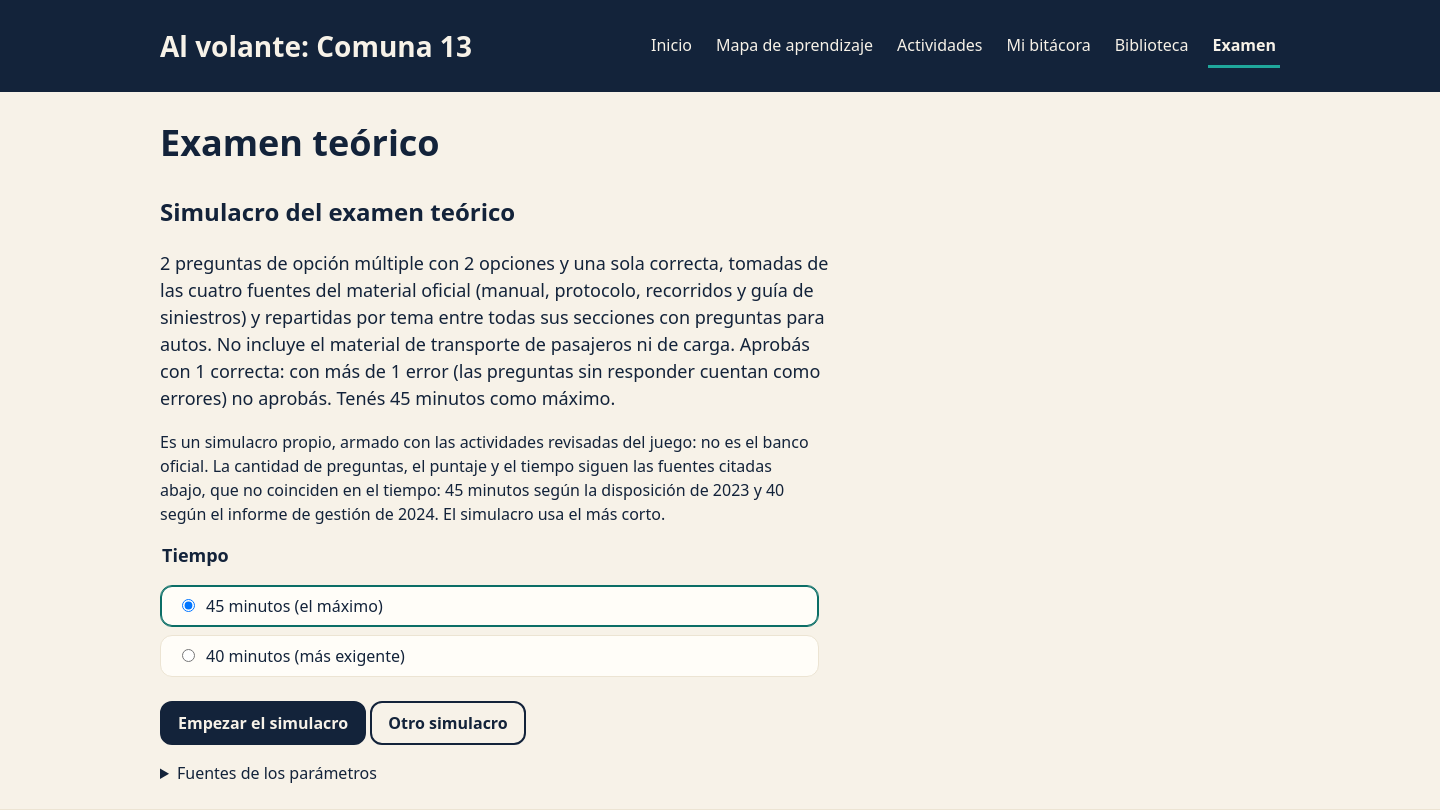
Scenario: theory mock exam page › says so when the graded exam cannot be stored, and still shows the result
Step 1. Click the button "Empezar el simulacro" → (263, 723), box [160,701,366,745]
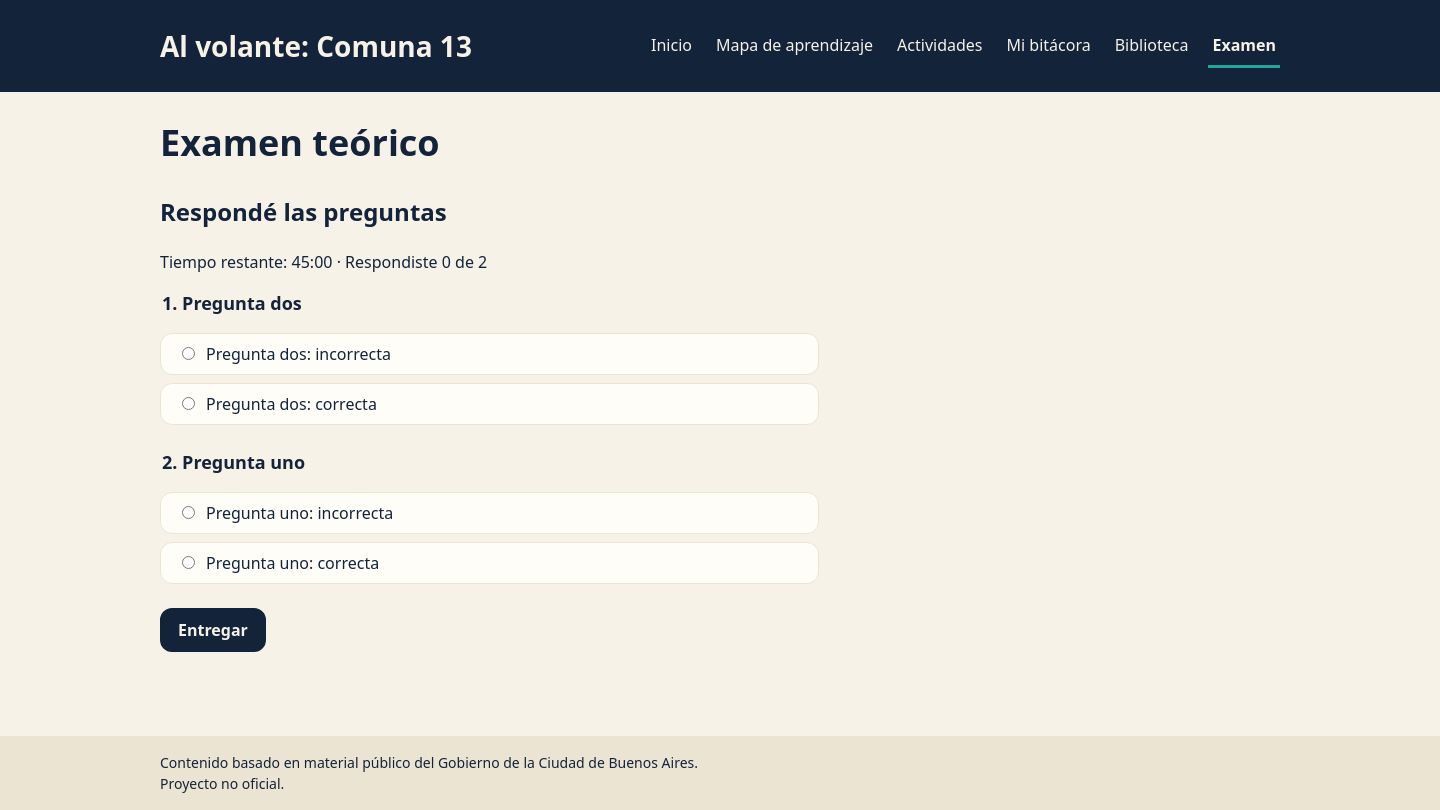
Step 2. Click the button "Entregar" → (213, 630), box [160,608,266,652]
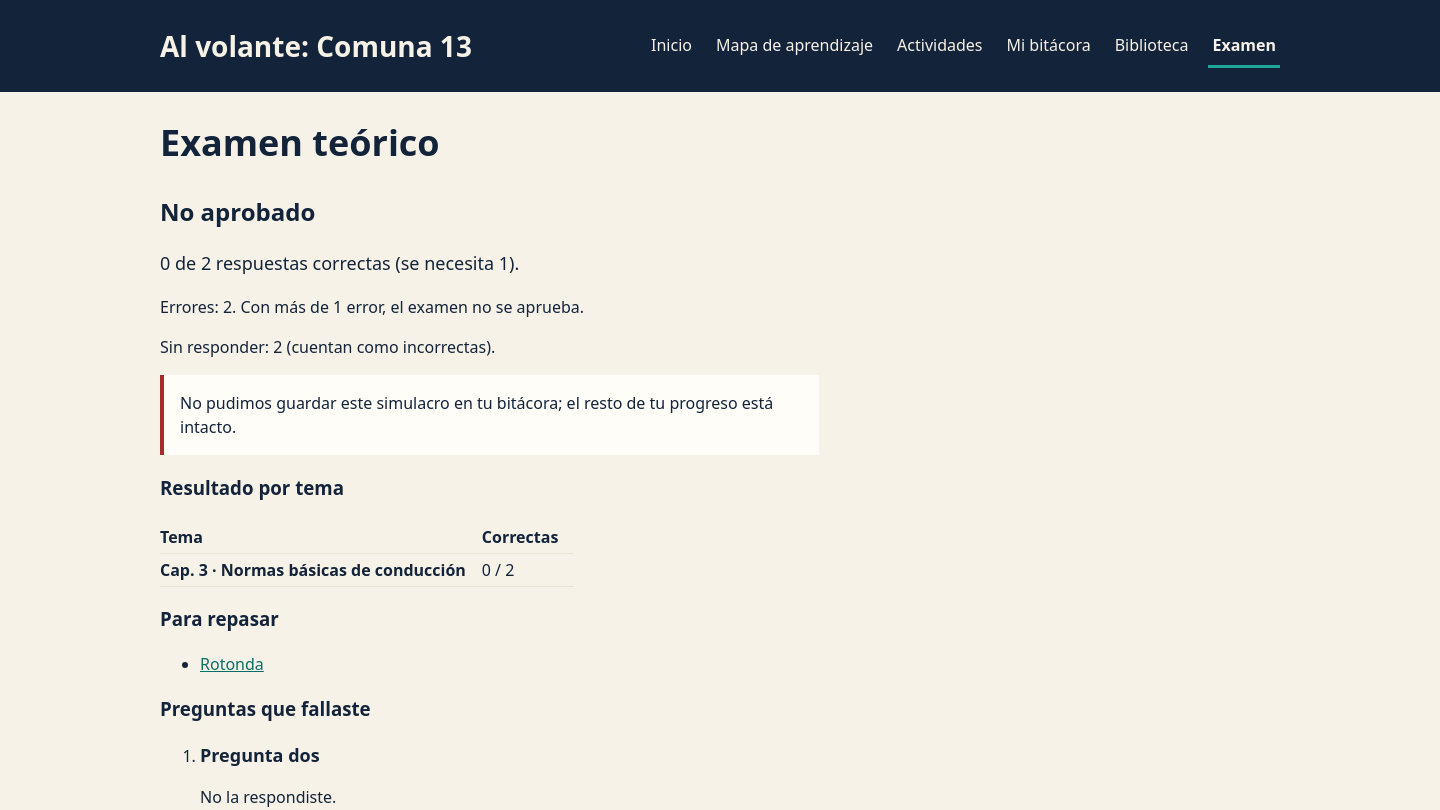
Expected: the message shows "No pudimos guardar este simulacro en tu bitácora; el resto de tu progreso está intacto.", [180,392,773,438]
Expected: the heading "No aprobado" is shown, [160,195,315,228]
